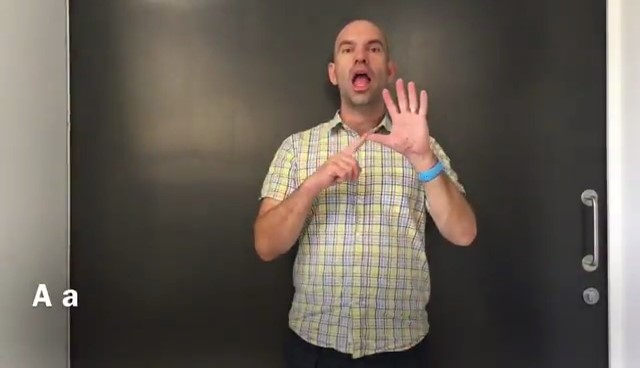A: (312, 71, 436, 193)
